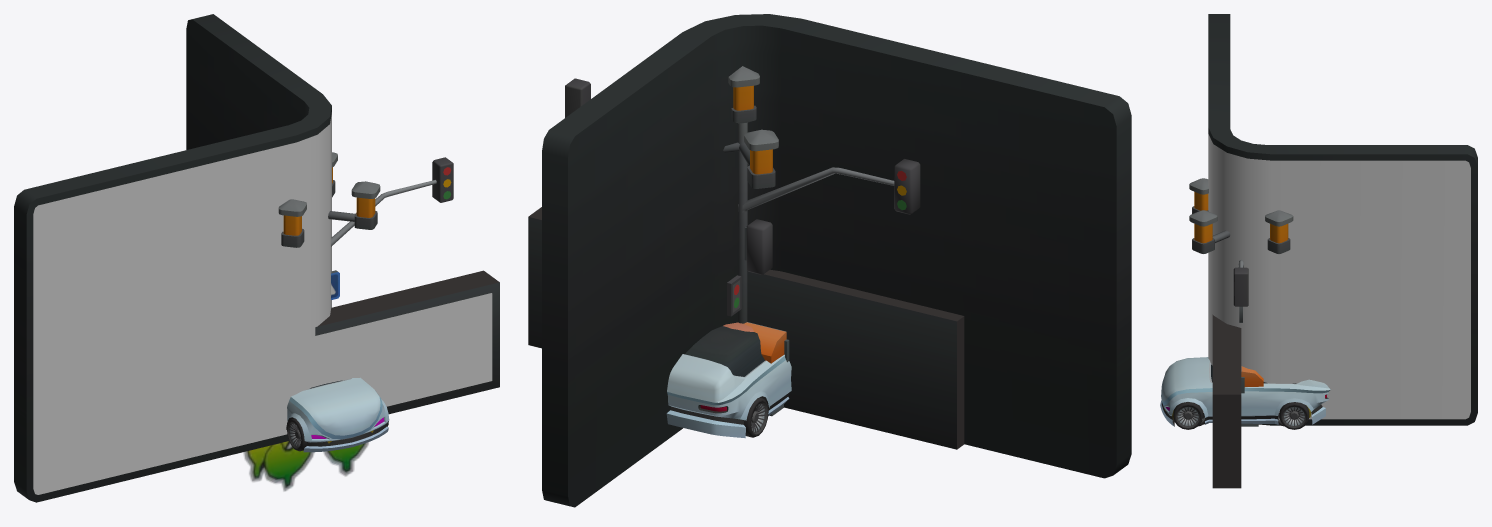
The model's file is city2.glb.
The picture shows the model from 3 angles, left to right: view 1: azimuth 30°, elevation 25°; view 2: azimuth 150°, elevation 25°; view 3: azimuth 270°, elevation 25°; orthographic projection. The views are drawn at different scales.
Parts seen in each view (by area): view 1: Billboard_2x1_03, Billboard_4x1_04_Line, Billboard_4x1_04, Futuristic_Car_1, Graffiti_03, Spotlight_02, traffic_light_001; view 2: Billboard_2x1_03, Billboard_4x1_04, Futuristic_Car_1, Spotlight_02, traffic_light_002, Trash_Can_05, traffic_light_001, Futuristic_Car_1_Wheel_Rear_Right; view 3: Billboard_2x1_03, Futuristic_Car_1, Billboard_4x1_04, Spotlight_02, Futuristic_Car_1_Wheel_Rear_Left, Futuristic_Car_1_Wheel_Front_Left, traffic_light_001.
Part boxes in pixels (x1,y1,x2,y2): Billboard_2x1_03: (14,14,331,502); Billboard_4x1_04_Line: (310,293,492,406); Billboard_4x1_04: (315,270,499,414); Futuristic_Car_1: (286,377,389,452); Graffiti_03: (243,441,368,491); Spotlight_02: (278,152,380,247); traffic_light_001: (331,157,453,246); Billboard_2x1_03: (542,14,1131,507); Billboard_4x1_04: (528,207,964,449); Futuristic_Car_1: (666,326,791,438); Spotlight_02: (723,66,778,323); traffic_light_002: (727,159,920,316); Trash_Can_05: (743,322,786,363); traffic_light_001: (565,78,738,211); Futuristic_Car_1_Wheel_Rear_Right: (743,397,768,437); Billboard_2x1_03: (1208,14,1477,425); Futuristic_Car_1: (1160,357,1330,426); Billboard_4x1_04: (1212,314,1241,488); Spotlight_02: (1189,178,1293,253); Futuristic_Car_1_Wheel_Rear_Left: (1279,402,1309,429); Futuristic_Car_1_Wheel_Front_Left: (1173,402,1203,429); traffic_light_001: (1233,260,1248,306).
Size of the model in its own units: 13.04 by 9.94 by 8.44.
8 materials, 6 textured.
